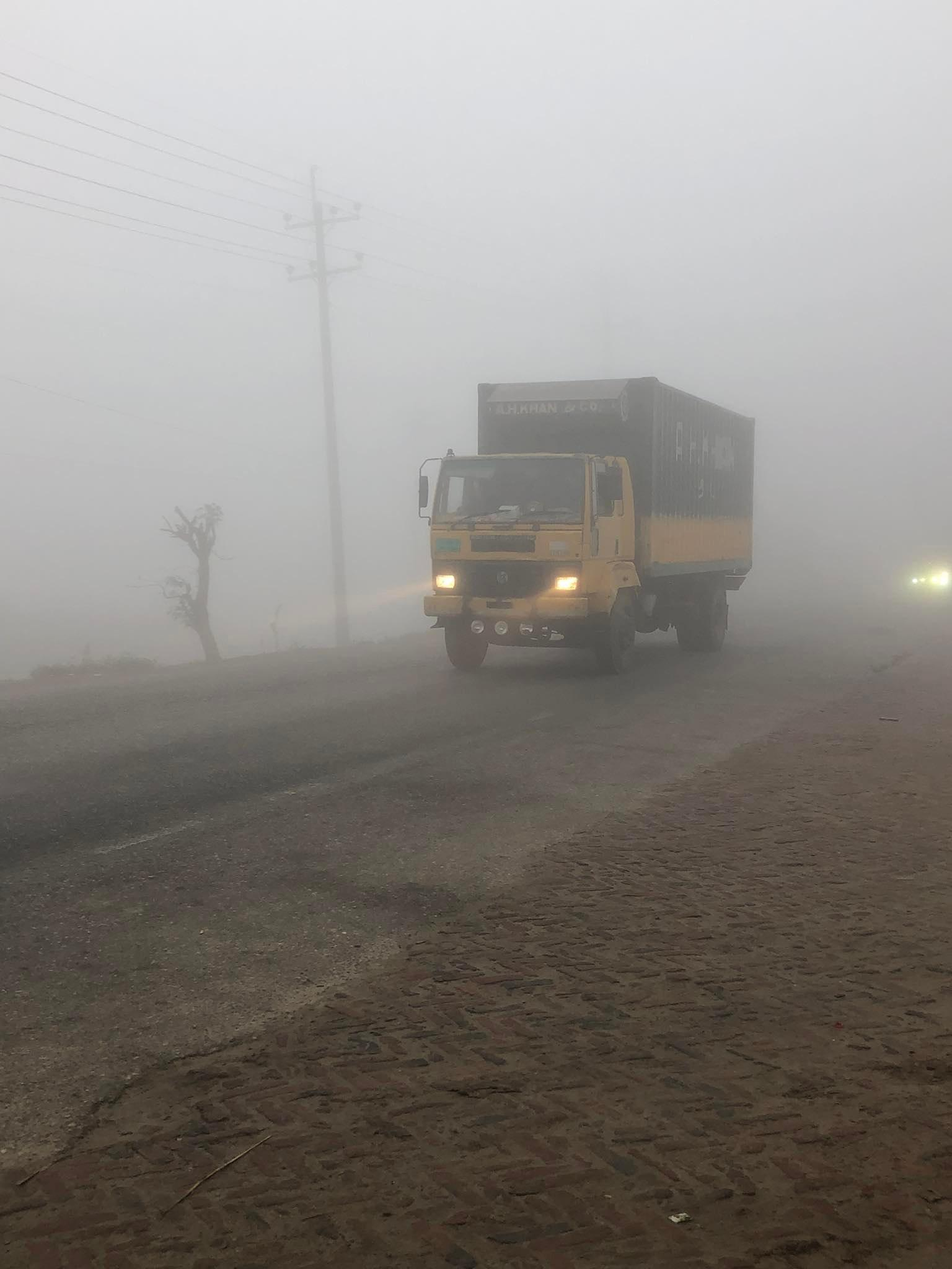Truck: (405, 343, 801, 688)
